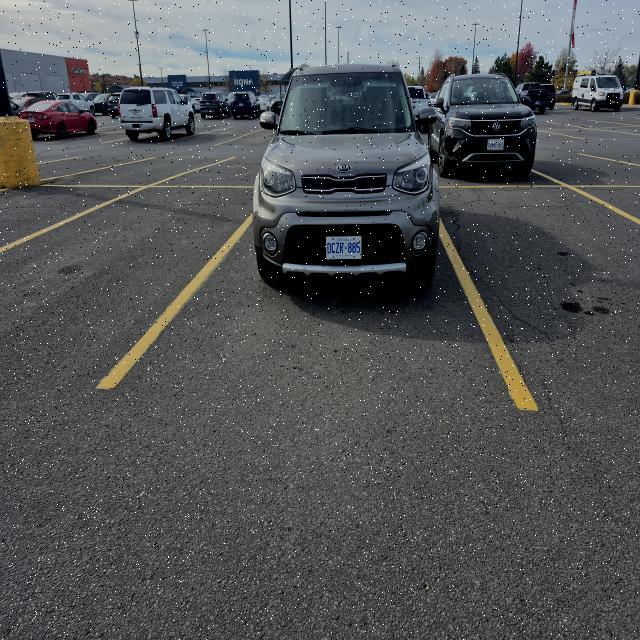plaque: (326, 237, 361, 259), (487, 140, 504, 151), (131, 110, 141, 116), (29, 118, 34, 122), (535, 101, 539, 104), (611, 101, 615, 103)
